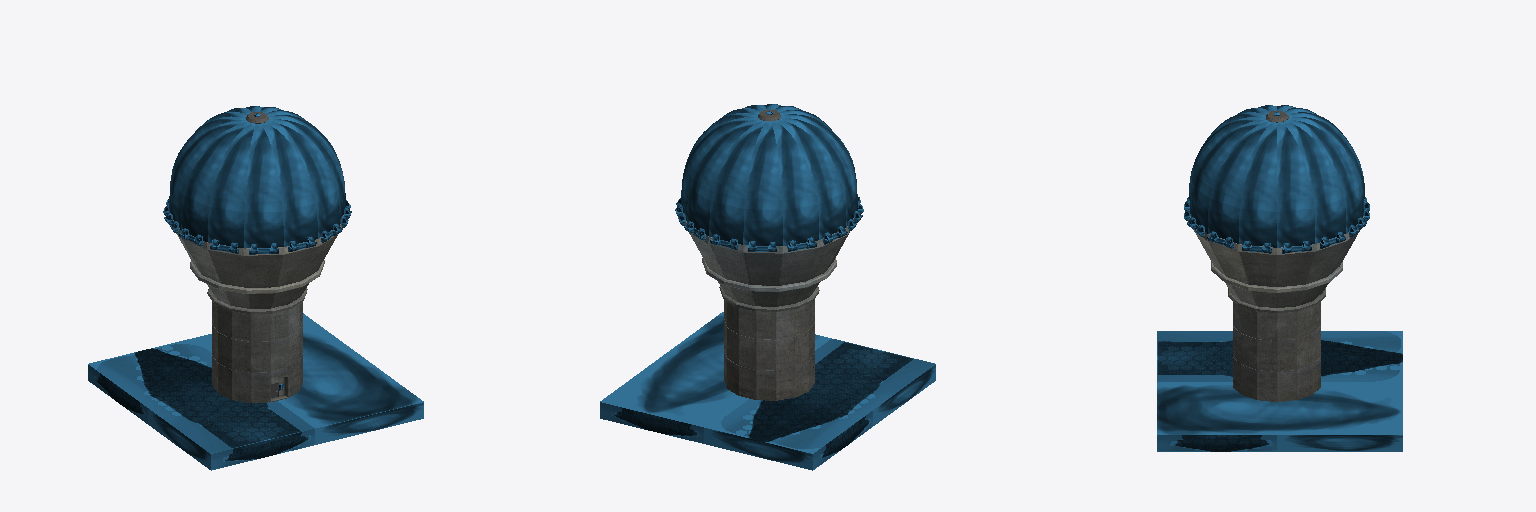
The picture shows the model from 3 angles: view 1: azimuth 30°, elevation 25°; view 2: azimuth 150°, elevation 25°; view 3: azimuth 270°, elevation 25°; orthographic projection.
Visible parts, largest first — view 1: Box004, Observatory001, Dome_14, Dome_13, Dome_01, Dome_12, Dome_02, Dome_11, Dome_03; view 2: Box004, Observatory001, Dome_09, Dome_10, Dome_08, Dome_11, Dome_07, Dome_12, Dome_06; view 3: Box004, Observatory001, Dome_05, Dome_04, Dome_03, Dome_06, Dome_02, Dome_07, Dome_08, Dome_01.
Part boxes in pixels (x1,y1,x2,y2): Box004: (88,313,423,470); Observatory001: (172,112,343,402); Dome_14: (244,124,283,248); Dome_13: (208,123,255,247); Dome_01: (261,123,317,246); Dome_12: (181,122,250,241); Dome_02: (265,121,339,238); Dome_11: (169,120,247,229); Dome_03: (268,119,345,223); Box004: (600,312,935,470); Observatory001: (685,110,853,400); Dome_09: (743,121,782,245); Dome_10: (771,121,818,245); Dome_08: (709,120,765,244); Dome_11: (776,119,845,239); Dome_07: (687,119,761,235); Dome_12: (780,117,857,227); Dome_06: (681,117,758,220); Box004: (1157,331,1402,451); Observatory001: (1190,111,1363,401); Dome_05: (1277,122,1314,247); Dome_04: (1239,122,1276,247); Dome_03: (1208,121,1271,243); Dome_06: (1282,121,1345,243); Dome_02: (1191,119,1267,233); Dome_07: (1286,119,1362,233); Dome_08: (1289,117,1364,215); Dome_01: (1189,117,1265,213).
Size of the model in its own units: 2891 by 3712 by 2891.
5 materials, 2 textured.